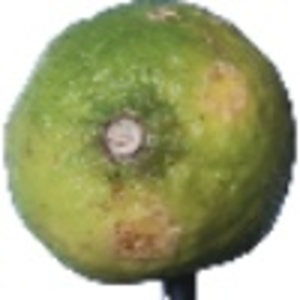limão: (4, 1, 297, 300)
